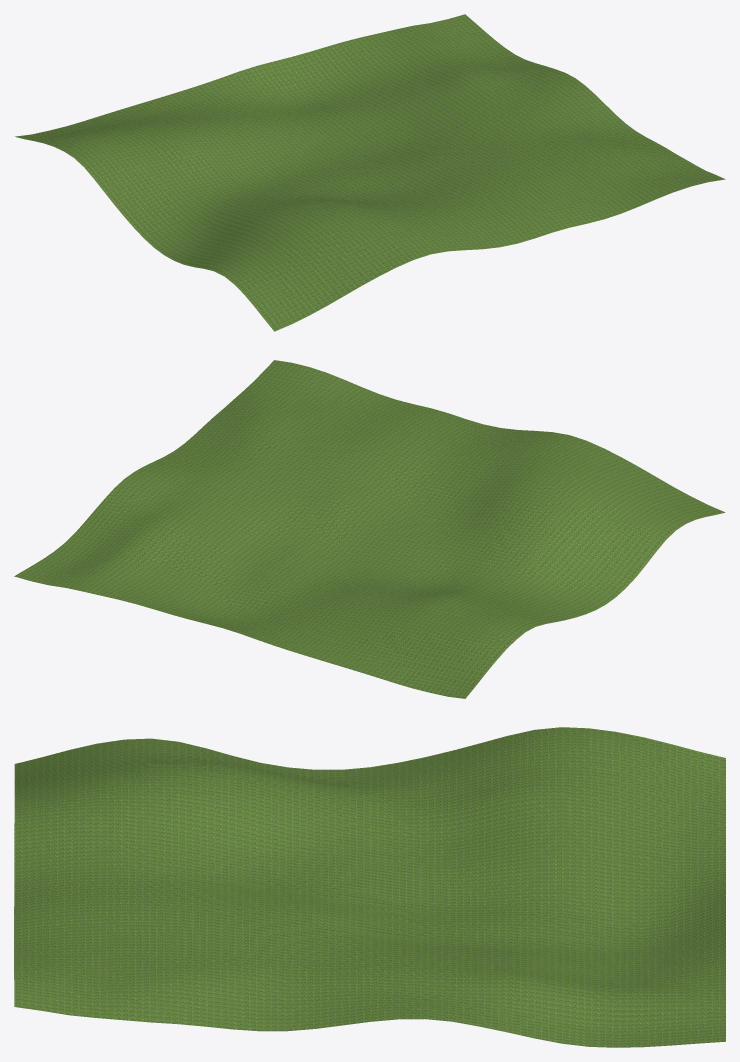
The model's file is terrainobject.glb.
3 views of the same model, one above another, from view 1: azimuth 30°, elevation 25°; view 2: azimuth 150°, elevation 25°; view 3: azimuth 270°, elevation 25° (orthographic). The views are drawn at different scales.
Parts seen in each view (by area): view 1: Plane.001; view 2: Plane.001; view 3: Plane.001.
Part boxes in pixels (x1,y1,x2,y2): Plane.001: [15, 14, 725, 331]; Plane.001: [14, 360, 725, 698]; Plane.001: [14, 727, 725, 1047].
Bounding box in the file's own units: 20015 × 2106 × 20020.
Materials: 1 (1 with a texture image).
